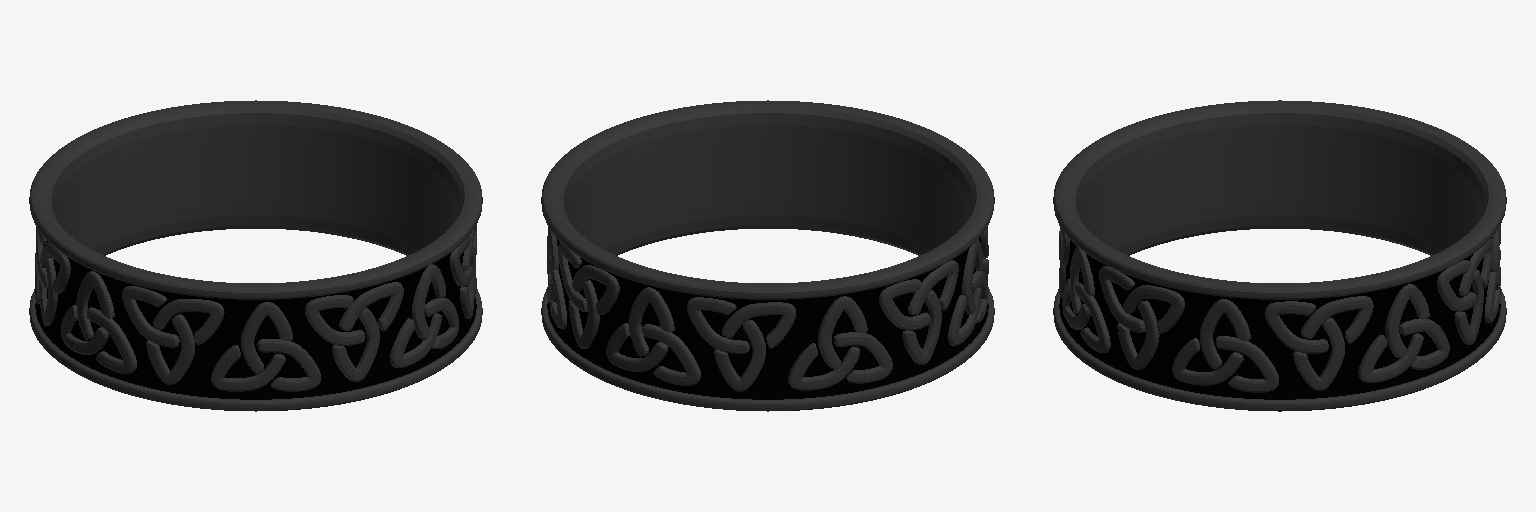
Rendered from celticring.obj.
3 views of the same model, side by side, from view 1: azimuth 30°, elevation 25°; view 2: azimuth 150°, elevation 25°; view 3: azimuth 270°, elevation 25° (orthographic).
Visible parts, largest first — view 1: object; view 2: object; view 3: object.
Boxes of the visible parts, x1=… form: object: x1=29, y1=100, x2=482, y2=411; object: x1=541, y1=100, x2=994, y2=411; object: x1=1053, y1=100, x2=1506, y2=411.
Size of the model in its own units: 0.2371 by 0.0709 by 0.2371.